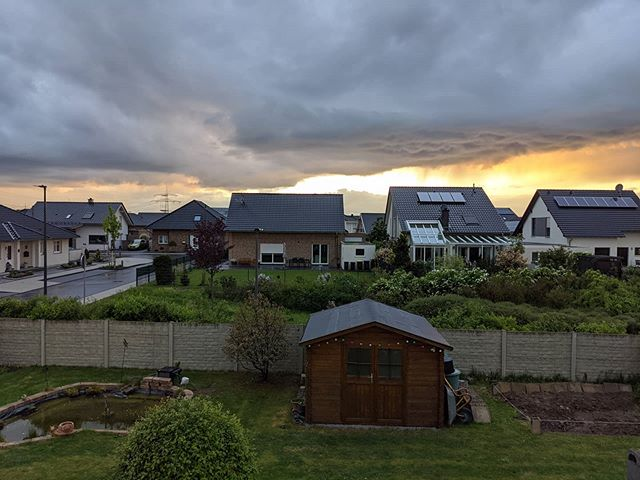building: (296, 292, 474, 439), (220, 187, 346, 272), (385, 184, 511, 269), (514, 190, 640, 275), (30, 191, 131, 254), (146, 201, 232, 258)
sky: (12, 1, 640, 185)
tree: (221, 276, 302, 386)
vegetation: (123, 257, 635, 332)
